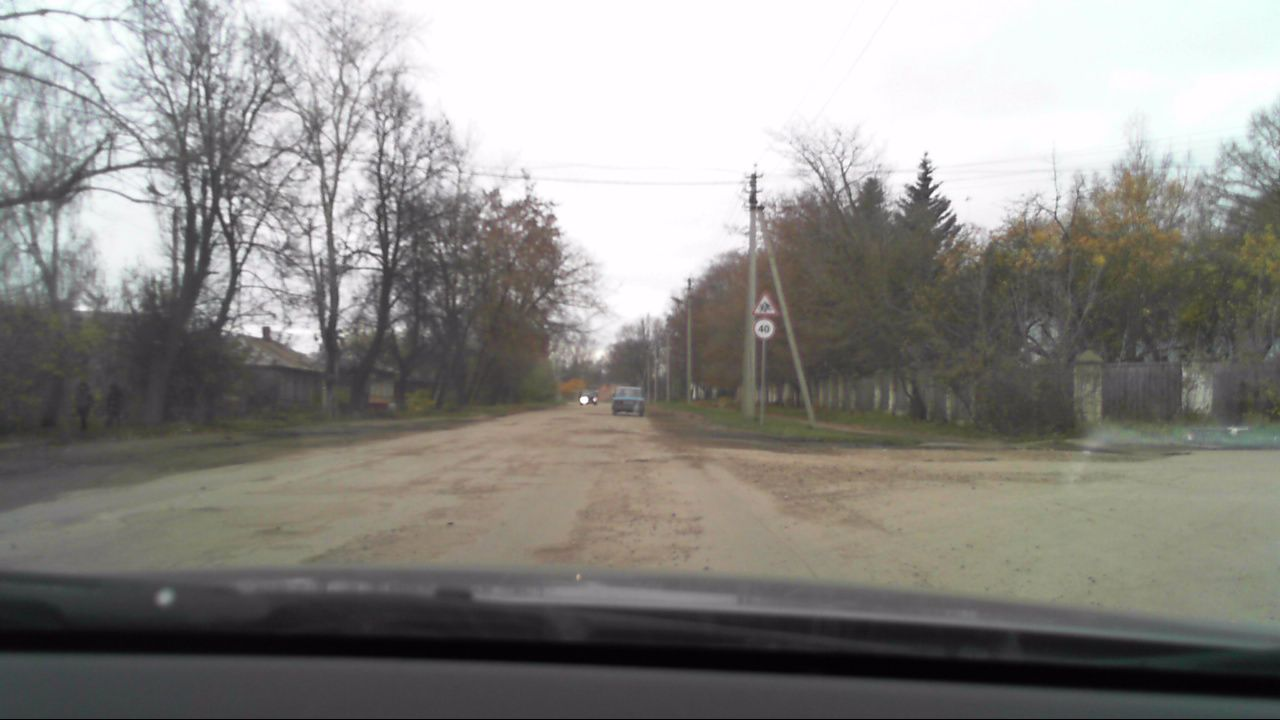speed_warning_40: (753, 318, 777, 339)
